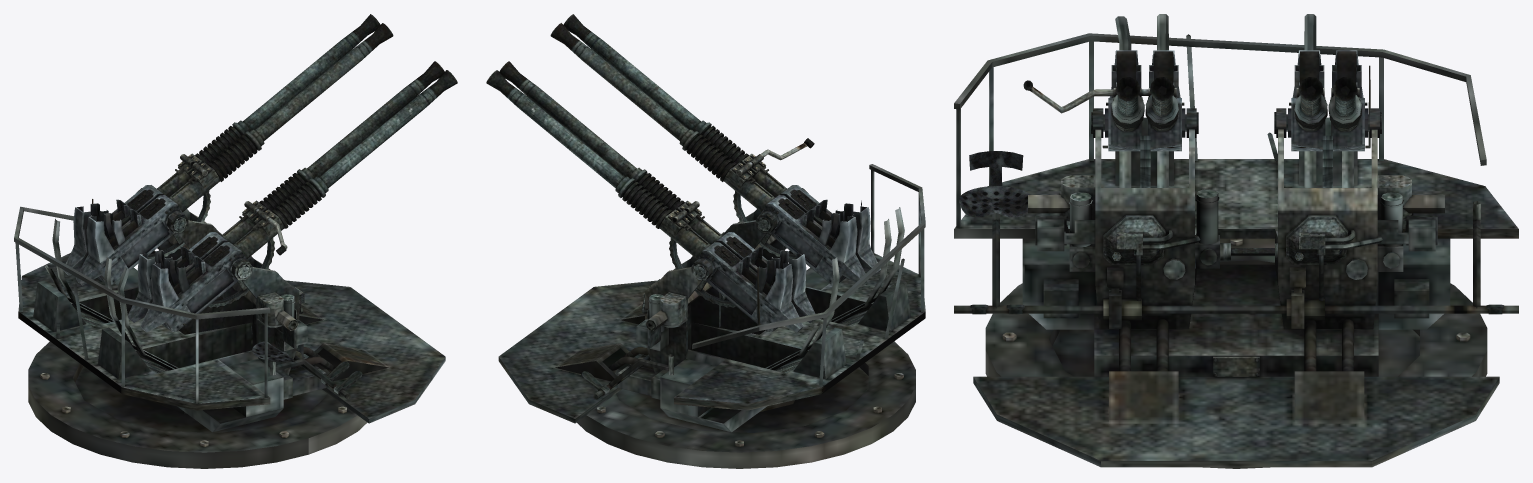
File: drum_artillery.glb
3 renders of one model, left to right at view 1: azimuth 30°, elevation 25°; view 2: azimuth 150°, elevation 25°; view 3: azimuth 270°, elevation 25°, orthographic. The views are drawn at different scales.
Parts seen in each view (by area): view 1: Object_3, Object_2; view 2: Object_3; view 3: Object_3, Object_2.
Boxes of the visible parts, <box> form: Object_3: <box>14,14,457,468</box>; Object_2: <box>251,325,295,362</box>; Object_3: <box>486,14,925,468</box>; Object_3: <box>954,14,1518,468</box>; Object_2: <box>959,151,1030,217</box>.
Bounding box in the file's own units: 389 × 305 × 365.
Materials: 2 (2 with a texture image).
